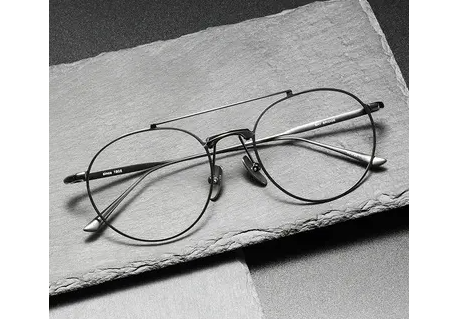glass: (60, 87, 400, 246)
